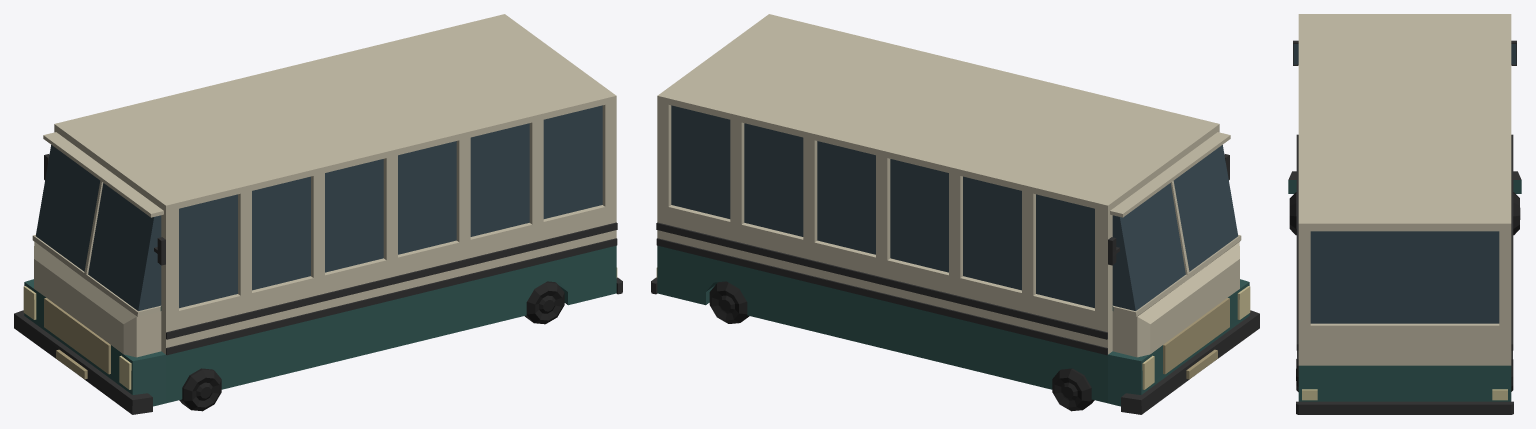
Rendered from bus.glb.
3 renders of one model, left to right at view 1: azimuth 30°, elevation 25°; view 2: azimuth 150°, elevation 25°; view 3: azimuth 270°, elevation 25°, orthographic. The views are drawn at different scales.
Parts seen in each view (by area): view 1: BackWheels; view 2: BackWheels; view 3: BackWheels.
Part boxes in pixels (x1,y1,x2,y2): BackWheels: [14, 14, 622, 414]; BackWheels: [651, 14, 1259, 414]; BackWheels: [1288, 14, 1521, 414].
Size of the model in its own units: 4.09 by 1.68 by 1.74.
